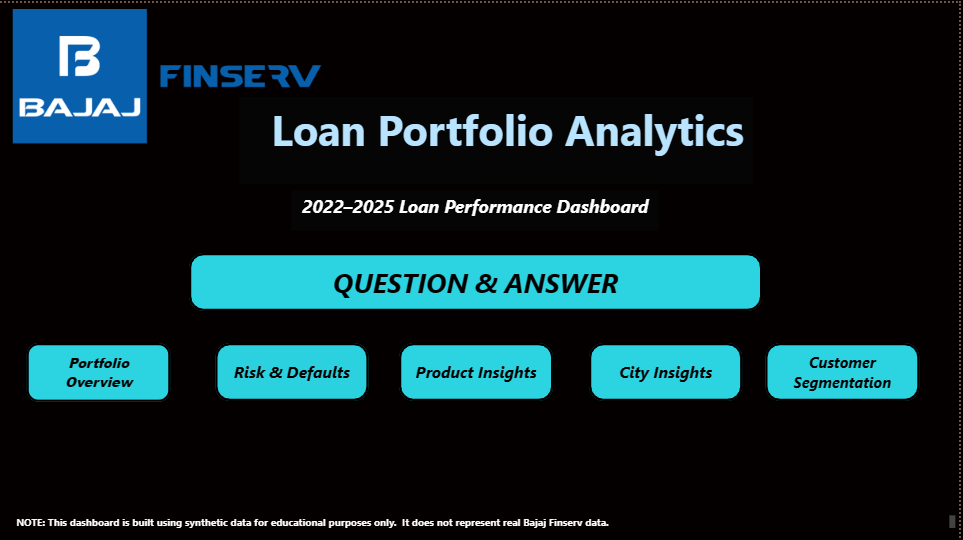

The dashboard page shown, as its layout file describes it:
{"tool":"powerbi","page":{"name":"LANDING","canvas":[1280,720],"ordinal":0},"visuals":[{"type":"textbox","box":[320.4,124.7,685.7,115.9],"z":0},{"type":"textbox","box":[390.2,249.4,490,53.6],"z":1000},{"type":"actionButton","box":[37.4,452.6,192,78.5],"z":2000},{"type":"actionButton","box":[786.7,452.6,204.5,77.3],"z":3000},{"type":"actionButton","box":[533.6,452.6,205.7,77.3],"z":4000},{"type":"actionButton","box":[288,453.8,204.5,77.3],"z":5000},{"type":"actionButton","box":[1022.3,452.6,205.7,77.3],"z":6000},{"type":"actionButton","box":[253.1,334.1,764.3,77.3],"z":7000},{"type":"image","box":[18.7,0,411.4,194.5],"z":13000},{"type":"textbox","box":[18.6,679.1,1261.6,31.4],"z":14000}]}

Visuals, with their boxes in screenshot pixels (x1, y1, x2, y2), scaled from the page's 1280x720 canvas onto the 963x540 screenshot:
textbox: 241,94,757,180
textbox: 294,187,662,227
actionButton: 28,339,173,398
actionButton: 592,339,746,397
actionButton: 401,339,556,397
actionButton: 217,340,371,398
actionButton: 769,339,924,397
actionButton: 190,251,765,309
image: 14,0,324,146
textbox: 14,509,962,533
